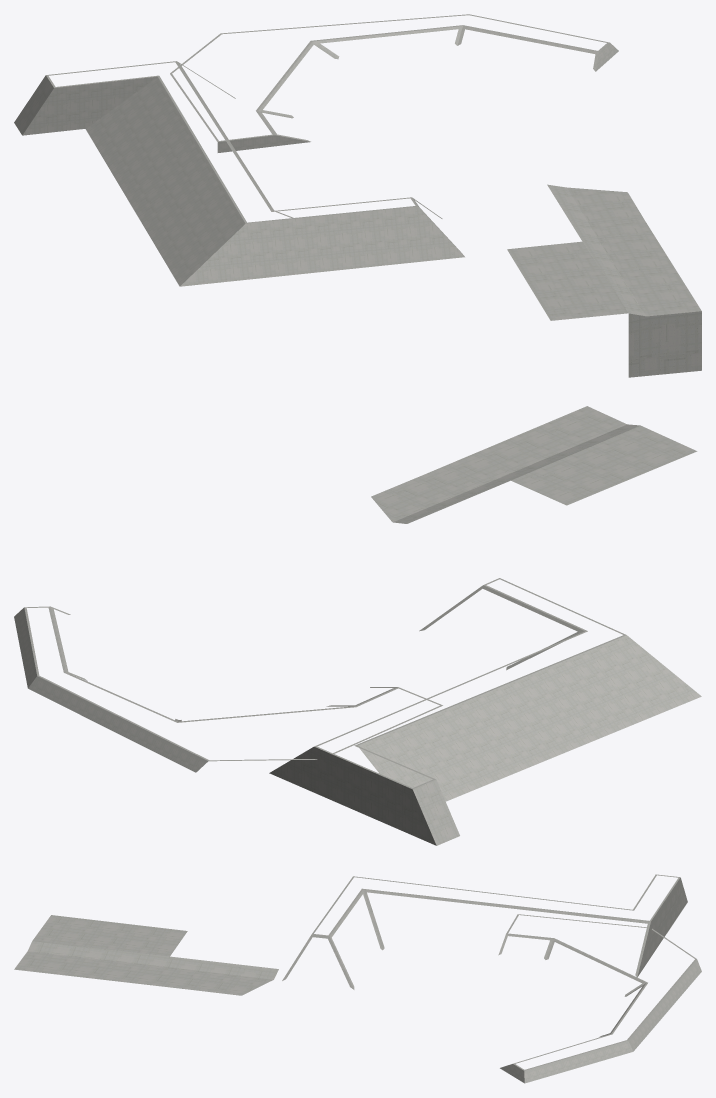
File: kd_connection_world-inner_surface_2_9.glb
3 views of the same model, one above another, from view 1: azimuth 30°, elevation 25°; view 2: azimuth 150°, elevation 25°; view 3: azimuth 270°, elevation 25° (orthographic). The views are drawn at different scales.
Parts seen in each view (by area): view 1: kd_connection_world-inner_surface_2_9; view 2: kd_connection_world-inner_surface_2_9; view 3: kd_connection_world-inner_surface_2_9.
Part boxes in pixels (left/top/right/bottom): kd_connection_world-inner_surface_2_9: left=14, top=14, right=701, bottom=377; kd_connection_world-inner_surface_2_9: left=14, top=406, right=701, bottom=845; kd_connection_world-inner_surface_2_9: left=14, top=874, right=701, bottom=1083.
Size of the model in its own units: 290 by 32.51 by 389.
1 material, 1 textured.
